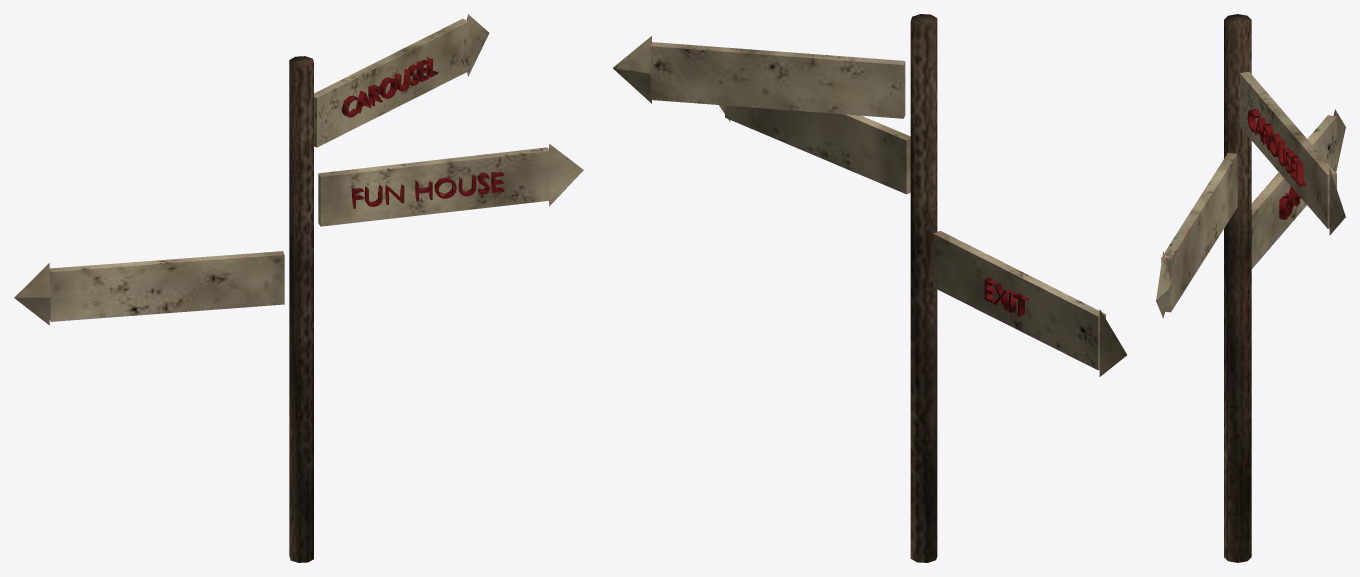
The model's file is signpost.glb.
3 renders of one model, left to right at view 1: azimuth 30°, elevation 25°; view 2: azimuth 150°, elevation 25°; view 3: azimuth 270°, elevation 25°, orthographic. The views are drawn at different scales.
Visible parts, largest first — view 1: Main; view 2: Main; view 3: Main.
Part boxes in pixels (left/top/right/bottom): Main: left=14, top=14, right=583, bottom=562; Main: left=613, top=14, right=1126, bottom=562; Main: left=1156, top=14, right=1345, bottom=562.
Size of the model in its own units: 3.05 by 3 by 0.9613.
Materials: 1 (1 with a texture image).
